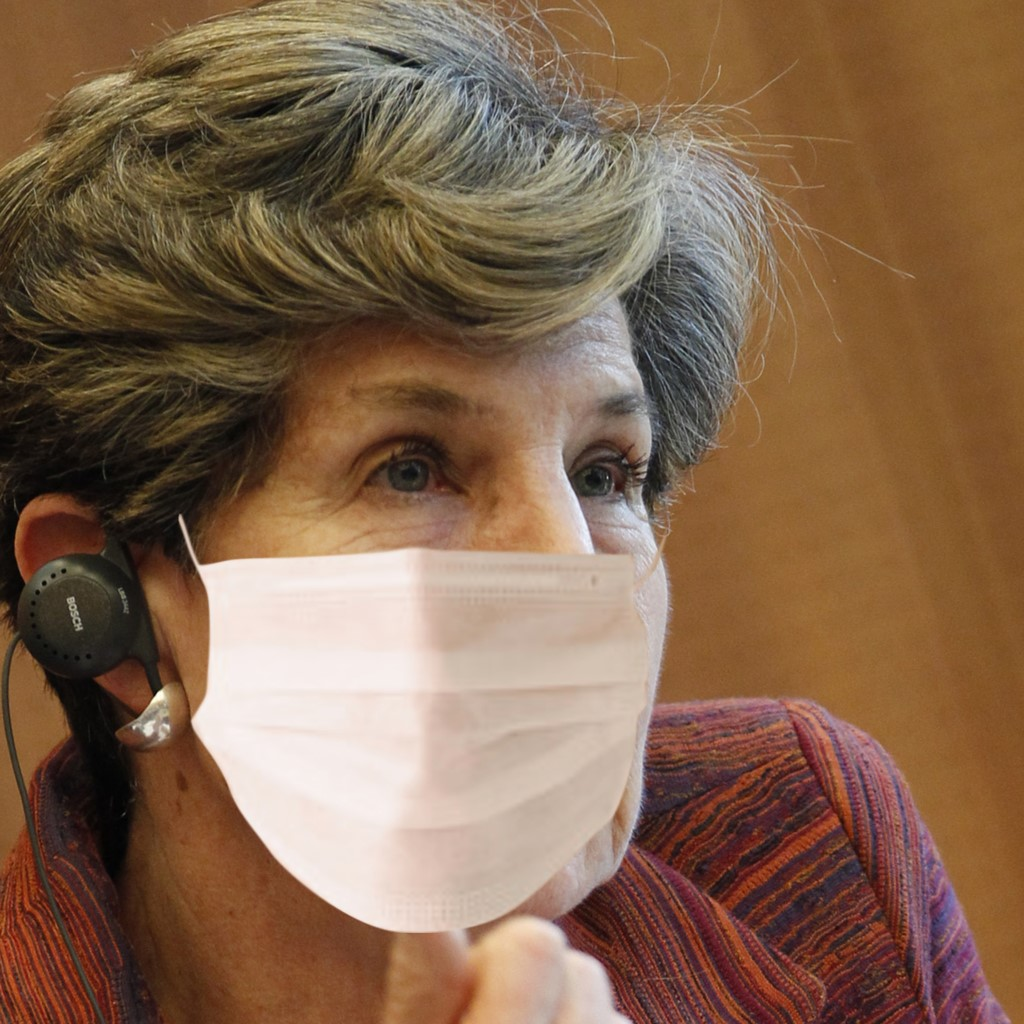con_mascara: (102, 133, 686, 962)
